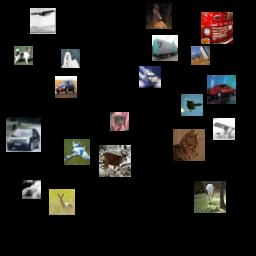airplane: (64, 139, 90, 165), (30, 8, 56, 34), (213, 118, 235, 140), (181, 94, 203, 116)
automobile: (6, 117, 41, 152), (207, 75, 236, 104), (55, 76, 77, 98)
bird: (194, 181, 226, 213)
cat: (173, 129, 205, 161), (22, 180, 41, 199)
deer: (99, 145, 131, 177), (49, 189, 75, 215), (146, 3, 172, 29)
dog: (61, 49, 80, 68), (14, 46, 33, 65)
frog: (110, 112, 129, 131)
ship: (139, 66, 161, 88)
truck: (201, 12, 233, 44), (152, 35, 178, 61), (191, 46, 210, 65)
